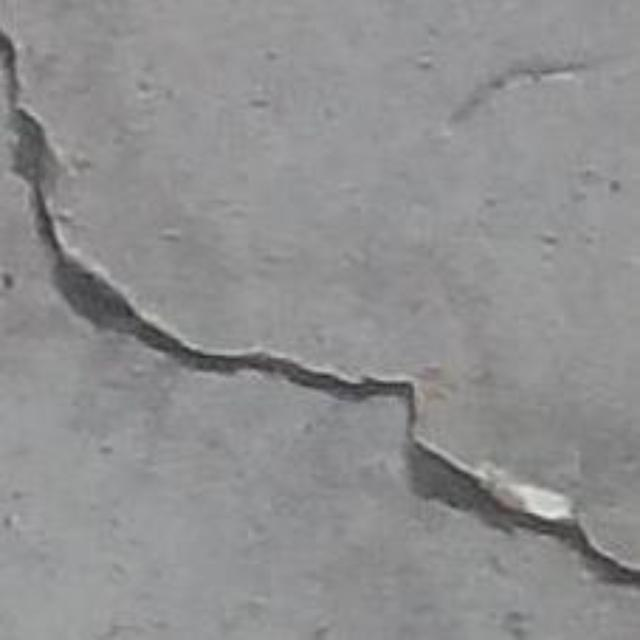crack: (0, 32, 639, 589)
